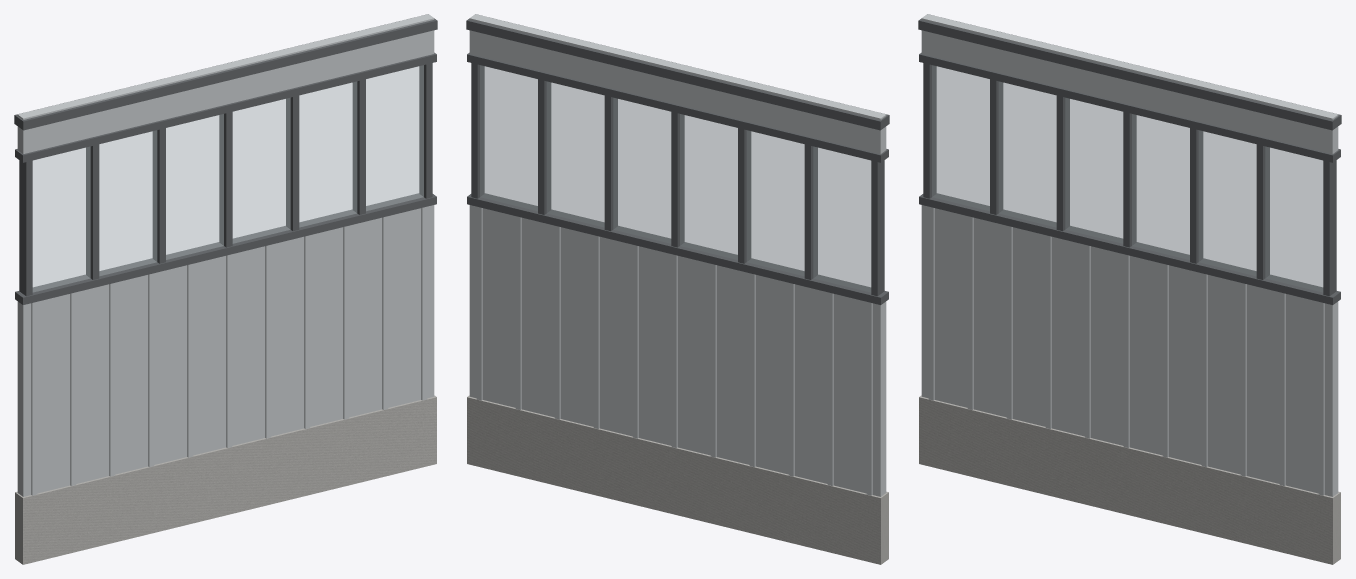
The model's file is hall-wall-bay-with-high-windows.glb.
The picture shows the model from 3 angles, left to right: view 1: azimuth 30°, elevation 25°; view 2: azimuth 150°, elevation 25°; view 3: azimuth 330°, elevation 25°; orthographic projection.
Visible parts, largest first — view 1: machine-shop-and-factory-hall-hall-window-bay; view 2: machine-shop-and-factory-hall-hall-window-bay; view 3: machine-shop-and-factory-hall-hall-window-bay.
Boxes of the visible parts, left/top/right/bottom form: machine-shop-and-factory-hall-hall-window-bay: left=14, top=14, right=437, bottom=564; machine-shop-and-factory-hall-hall-window-bay: left=466, top=14, right=889, bottom=564; machine-shop-and-factory-hall-hall-window-bay: left=918, top=14, right=1341, bottom=564.
Size of the model in its own units: 5.84 by 6 by 0.2203.
4 materials, 1 textured.
